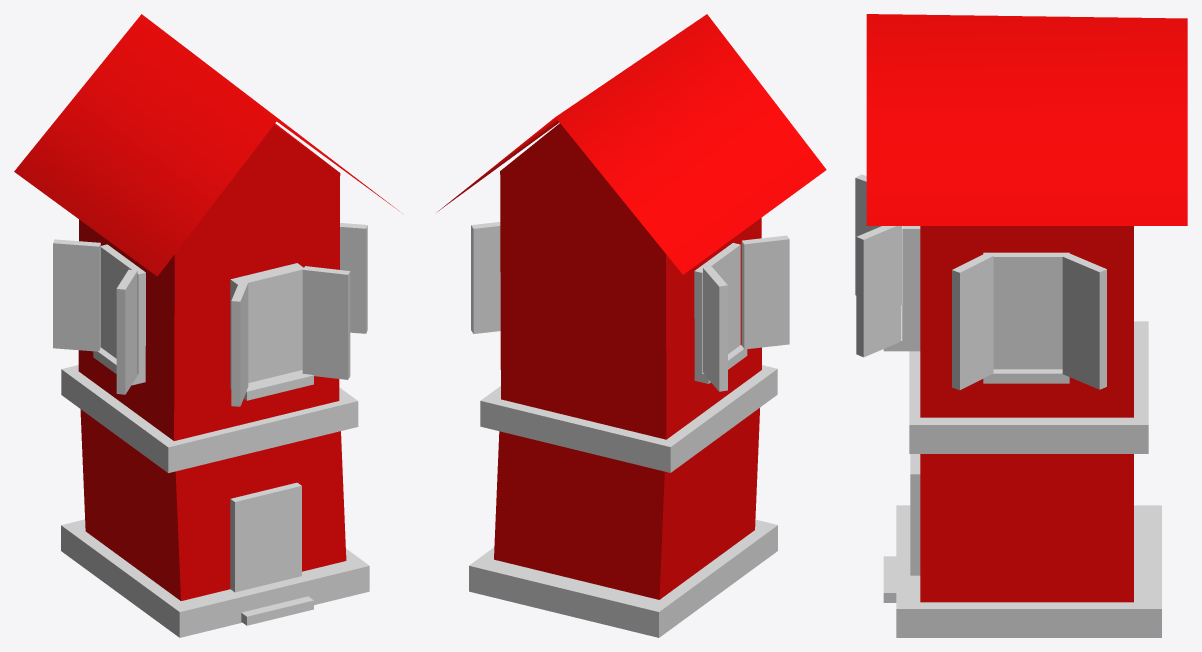
File: tree_2.FBX
The picture shows the model from 3 angles, left to right: view 1: azimuth 30°, elevation 25°; view 2: azimuth 150°, elevation 25°; view 3: azimuth 270°, elevation 25°; orthographic projection. The views are drawn at different scales.
Parts seen in each view (by area): view 1: house, roof, dor_part003, window_part_2, window_part_1; view 2: house, roof, dor_part003, window_part_2, window_part_1; view 3: roof, house, dor_part003, window_part_2, window_part_1.
Part boxes in pixels (box(x1,y1,x2,y2)): house: box(78, 123, 346, 600); roof: box(14, 14, 402, 276); dor_part003: box(61, 347, 369, 637); window_part_2: box(53, 223, 367, 406); window_part_1: box(101, 244, 303, 592); house: box(494, 123, 761, 599); roof: box(437, 14, 826, 274); dor_part003: box(469, 345, 777, 637); window_part_2: box(471, 222, 789, 391); window_part_1: box(694, 243, 740, 373); roof: box(866, 14, 1187, 225); house: box(920, 226, 1133, 602); dor_part003: box(883, 305, 1161, 637); window_part_2: box(855, 174, 1106, 390); window_part_1: box(902, 226, 1069, 575).
Size of the model in its own units: 5276 by 5332 by 10015.
